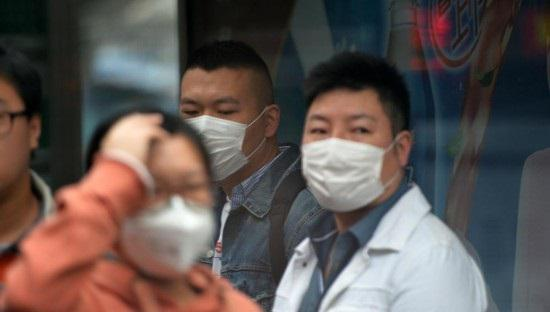NONE: (1, 92, 31, 193)
OK: (120, 175, 218, 277), (301, 109, 392, 213), (174, 89, 261, 183)
